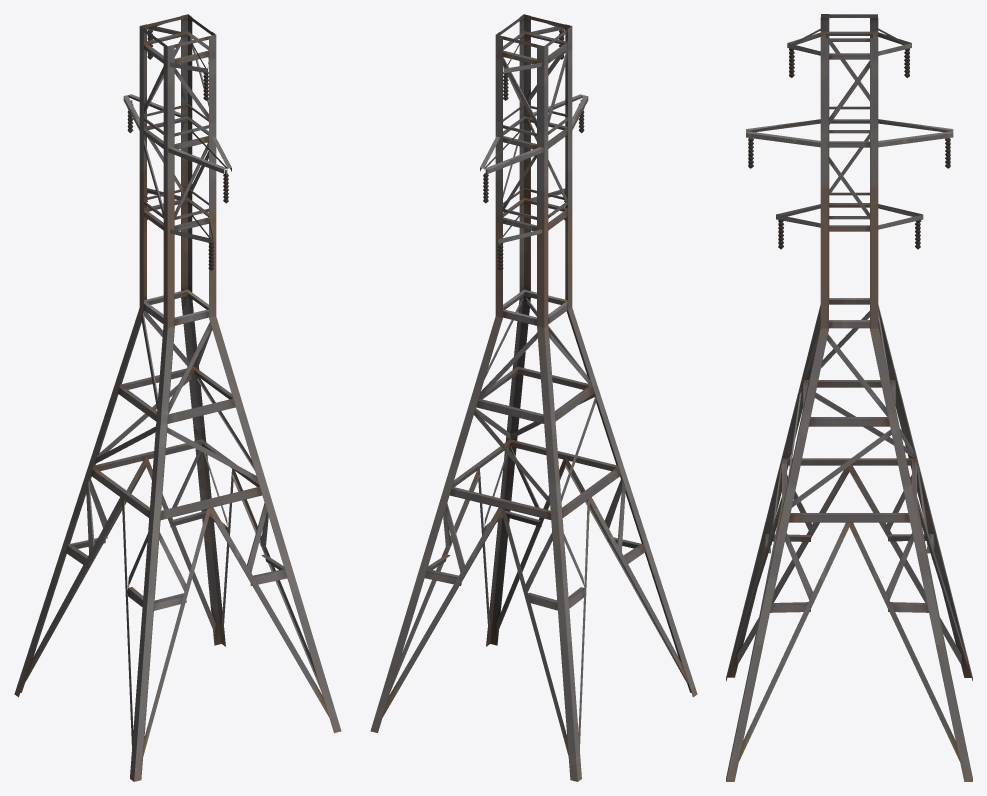
3 renders of one model, left to right at view 1: azimuth 30°, elevation 25°; view 2: azimuth 150°, elevation 25°; view 3: azimuth 270°, elevation 25°, orthographic. The views are drawn at different scales.
Parts seen in each view (by area): view 1: body0_model0_lod0_mesh0; view 2: body0_model0_lod0_mesh0; view 3: body0_model0_lod0_mesh0.
Boxes of the visible parts, x1,y1,x2,y2 form: body0_model0_lod0_mesh0: [14, 14, 341, 781]; body0_model0_lod0_mesh0: [370, 14, 697, 781]; body0_model0_lod0_mesh0: [726, 14, 972, 781].
Bounding box in the file's own units: 614 × 1930 × 614.
1 material, 1 textured.
